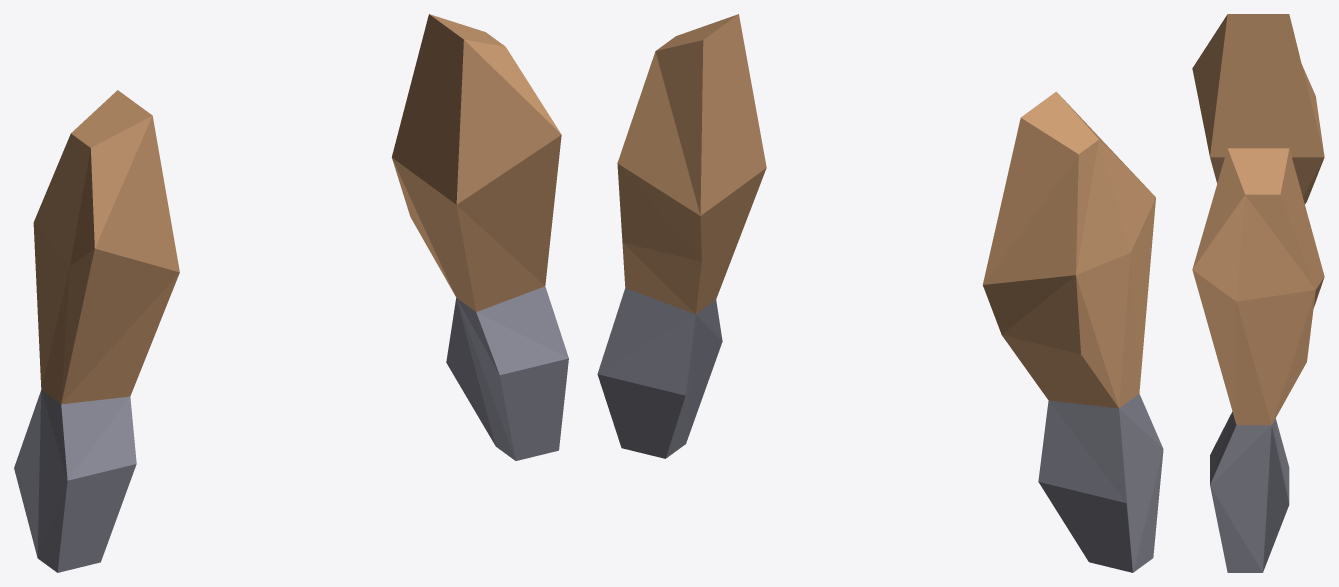
The model's file is player_female_arms_62_0.obj.
3 renders of one model, left to right at view 1: azimuth 30°, elevation 25°; view 2: azimuth 150°, elevation 25°; view 3: azimuth 270°, elevation 25°, orthographic. The views are drawn at different scales.
Bounding box in the file's own units: 0.4688 × 0.375 × 0.1172.
